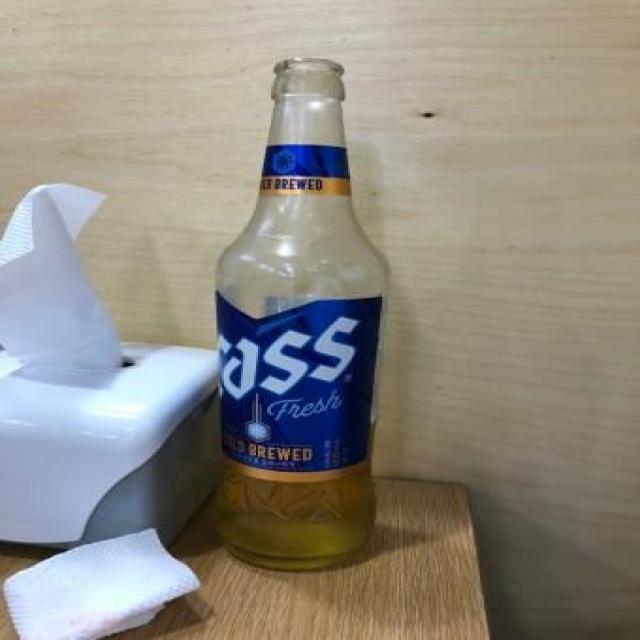beer-bottle: (218, 56, 398, 583)
